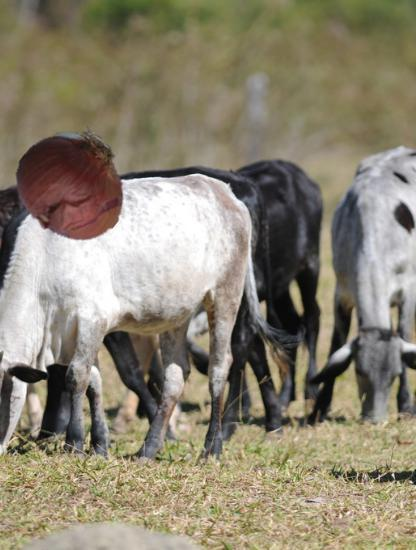Onion: (17, 126, 133, 242)
